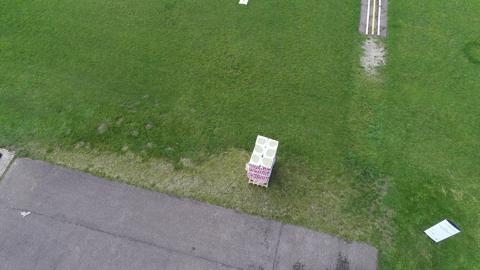RockwoolPallet: (248, 134, 280, 187)
